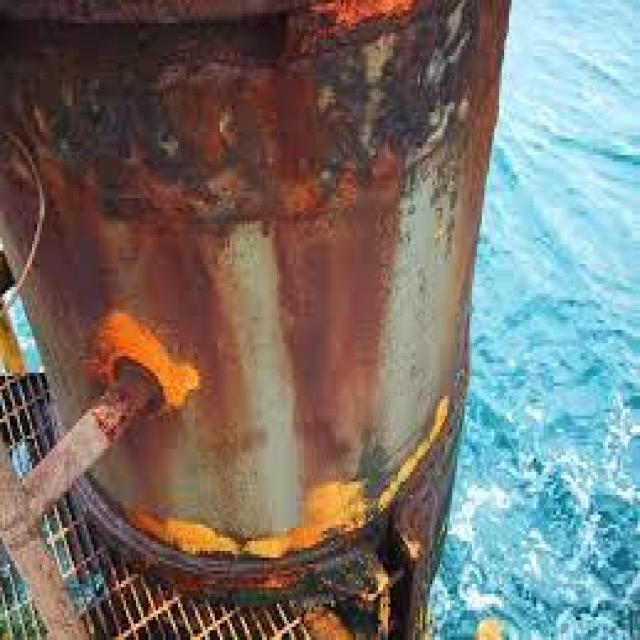non-corrosion: (0, 0, 509, 640)
